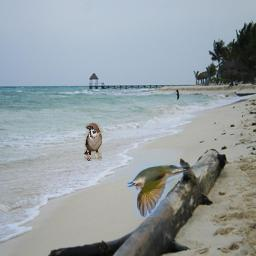Cuckoo: (127, 162, 214, 217)
Sparrow: (84, 123, 102, 161)
